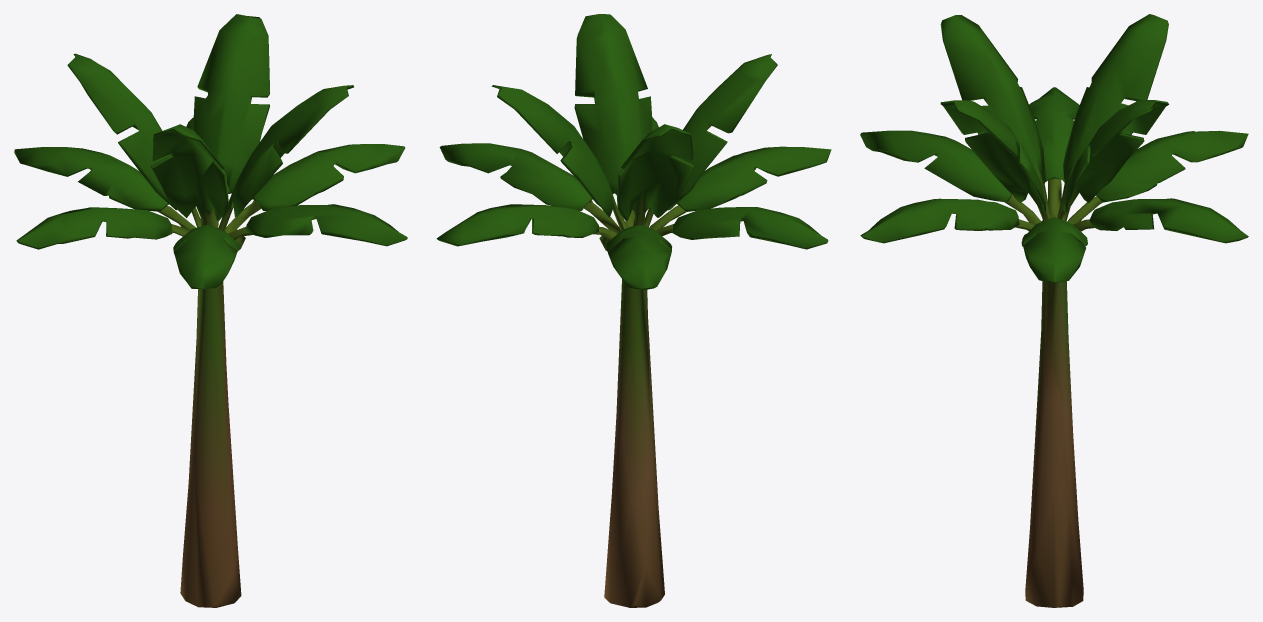
Rendered from gen3d-pandanus-tree-lod1.glb.
The picture shows the model from 3 angles, left to right: view 1: azimuth 30°, elevation 25°; view 2: azimuth 150°, elevation 25°; view 3: azimuth 270°, elevation 25°; orthographic projection. The views are drawn at different scales.
Parts seen in each view (by area): view 1: part_0; view 2: part_0; view 3: part_0.
Boxes of the visible parts, x1=… form: part_0: x1=14, y1=14, x2=407, y2=607; part_0: x1=436, y1=14, x2=831, y2=607; part_0: x1=860, y1=14, x2=1248, y2=607.
Size of the model in its own units: 0.7743 by 0.9998 by 0.6547.
